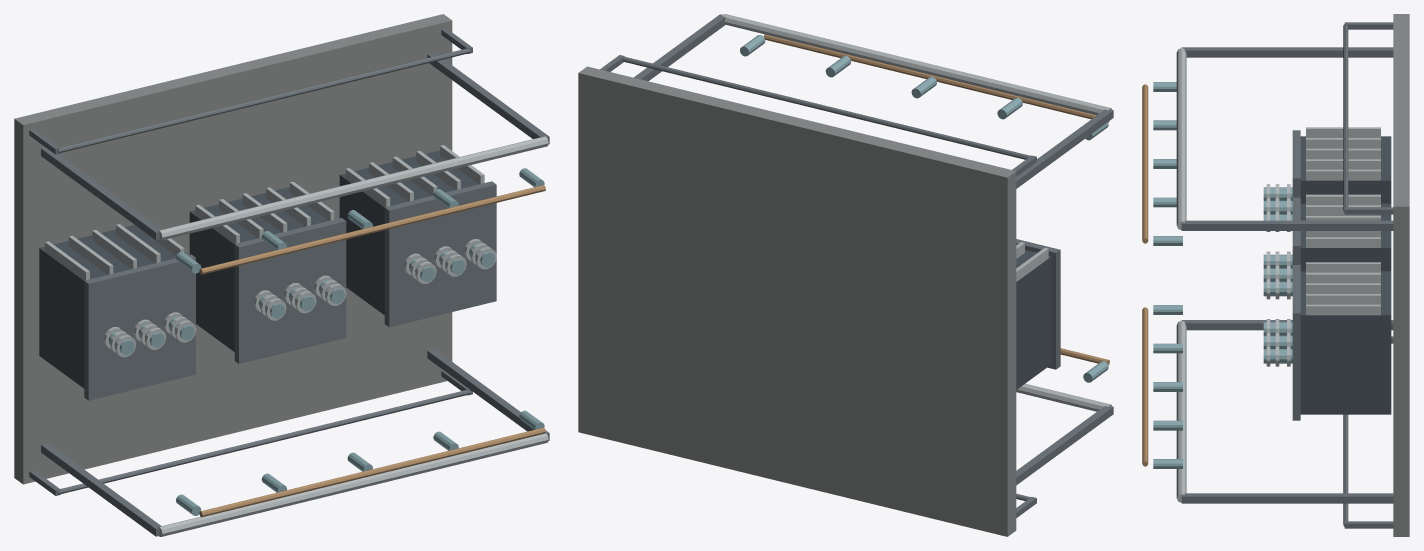
File: powerquest_substation.glb
3 views of the same model, side by side, from view 1: azimuth 30°, elevation 25°; view 2: azimuth 150°, elevation 25°; view 3: azimuth 270°, elevation 25° (orthographic). The views are drawn at different scales.
Parts seen in each view (by area): view 1: powerquest_substation_000, powerquest_substation_008, powerquest_substation_046, powerquest_substation_027, powerquest_substation_007, powerquest_substation_026, powerquest_substation_045, powerquest_substation_006, powerquest_substation_005, powerquest_substation_081, powerquest_substation_075, powerquest_substation_069 (+6 smaller); view 2: powerquest_substation_000, powerquest_substation_006, powerquest_substation_007, powerquest_substation_081, powerquest_substation_075, powerquest_substation_001, powerquest_substation_008, powerquest_substation_002, powerquest_substation_004, powerquest_substation_005; view 3: powerquest_substation_045, powerquest_substation_000, powerquest_substation_003, powerquest_substation_004, powerquest_substation_002, powerquest_substation_007, powerquest_substation_026, powerquest_substation_006, powerquest_substation_005, powerquest_substation_046, powerquest_substation_069, powerquest_substation_075 (+26 smaller).
Part boxes in pixels (box(x1,y1,x2,y2)): powerquest_substation_000: box(14, 14, 452, 484); powerquest_substation_008: box(84, 254, 195, 400); powerquest_substation_046: box(384, 181, 496, 327); powerquest_substation_027: box(234, 218, 346, 363); powerquest_substation_007: box(39, 225, 176, 388); powerquest_substation_026: box(189, 187, 328, 351); powerquest_substation_045: box(339, 150, 478, 314); powerquest_substation_006: box(158, 136, 548, 240); powerquest_substation_005: box(158, 433, 548, 536); powerquest_substation_081: box(58, 48, 470, 153); powerquest_substation_075: box(199, 185, 545, 274); powerquest_substation_069: box(199, 427, 545, 517); powerquest_substation_000: box(578, 66, 1016, 536); powerquest_substation_006: box(722, 14, 1112, 115); powerquest_substation_007: box(1016, 250, 1051, 389); powerquest_substation_081: box(623, 56, 1030, 159); powerquest_substation_075: box(763, 34, 1109, 122); powerquest_substation_001: box(1016, 406, 1113, 485); powerquest_substation_008: box(1016, 239, 1060, 369); powerquest_substation_002: box(1016, 109, 1113, 188); powerquest_substation_004: box(634, 14, 725, 81); powerquest_substation_005: box(1016, 383, 1111, 411); powerquest_substation_045: box(1300, 271, 1391, 414); powerquest_substation_000: box(1393, 14, 1409, 536); powerquest_substation_003: box(1181, 493, 1393, 503); powerquest_substation_004: box(1181, 220, 1393, 230); powerquest_substation_002: box(1181, 47, 1393, 57); powerquest_substation_007: box(1300, 136, 1391, 203); powerquest_substation_026: box(1300, 203, 1391, 271); powerquest_substation_006: box(1176, 48, 1186, 230); powerquest_substation_005: box(1176, 320, 1186, 502); powerquest_substation_046: box(1292, 265, 1300, 420); powerquest_substation_069: box(1142, 307, 1148, 466); powerquest_substation_075: box(1142, 84, 1148, 243).
Bounding box in the file's own units: 10 × 8 × 5.86.
